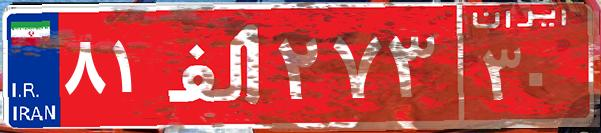0: (525, 38, 570, 115)
1: (110, 28, 158, 105)
2: (273, 28, 330, 110)
3: (385, 28, 445, 110), (475, 38, 525, 113)
7: (330, 28, 385, 110)
8: (57, 26, 110, 107)
الف: (158, 15, 273, 115)
